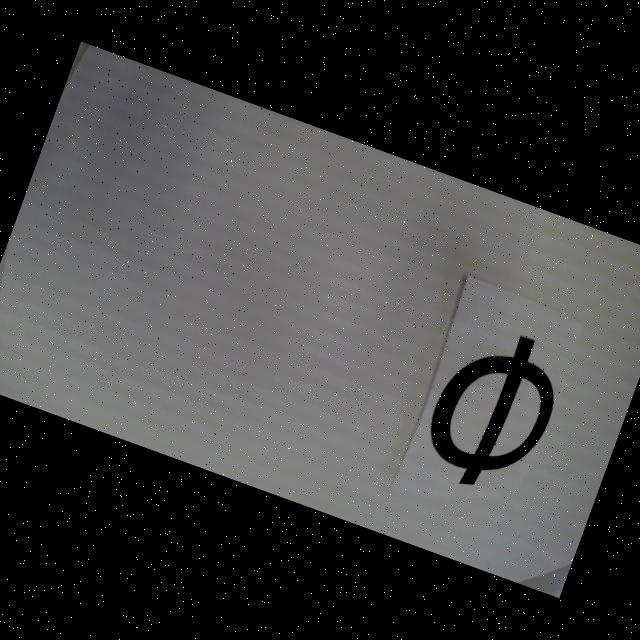PHI: (414, 316, 576, 507)
